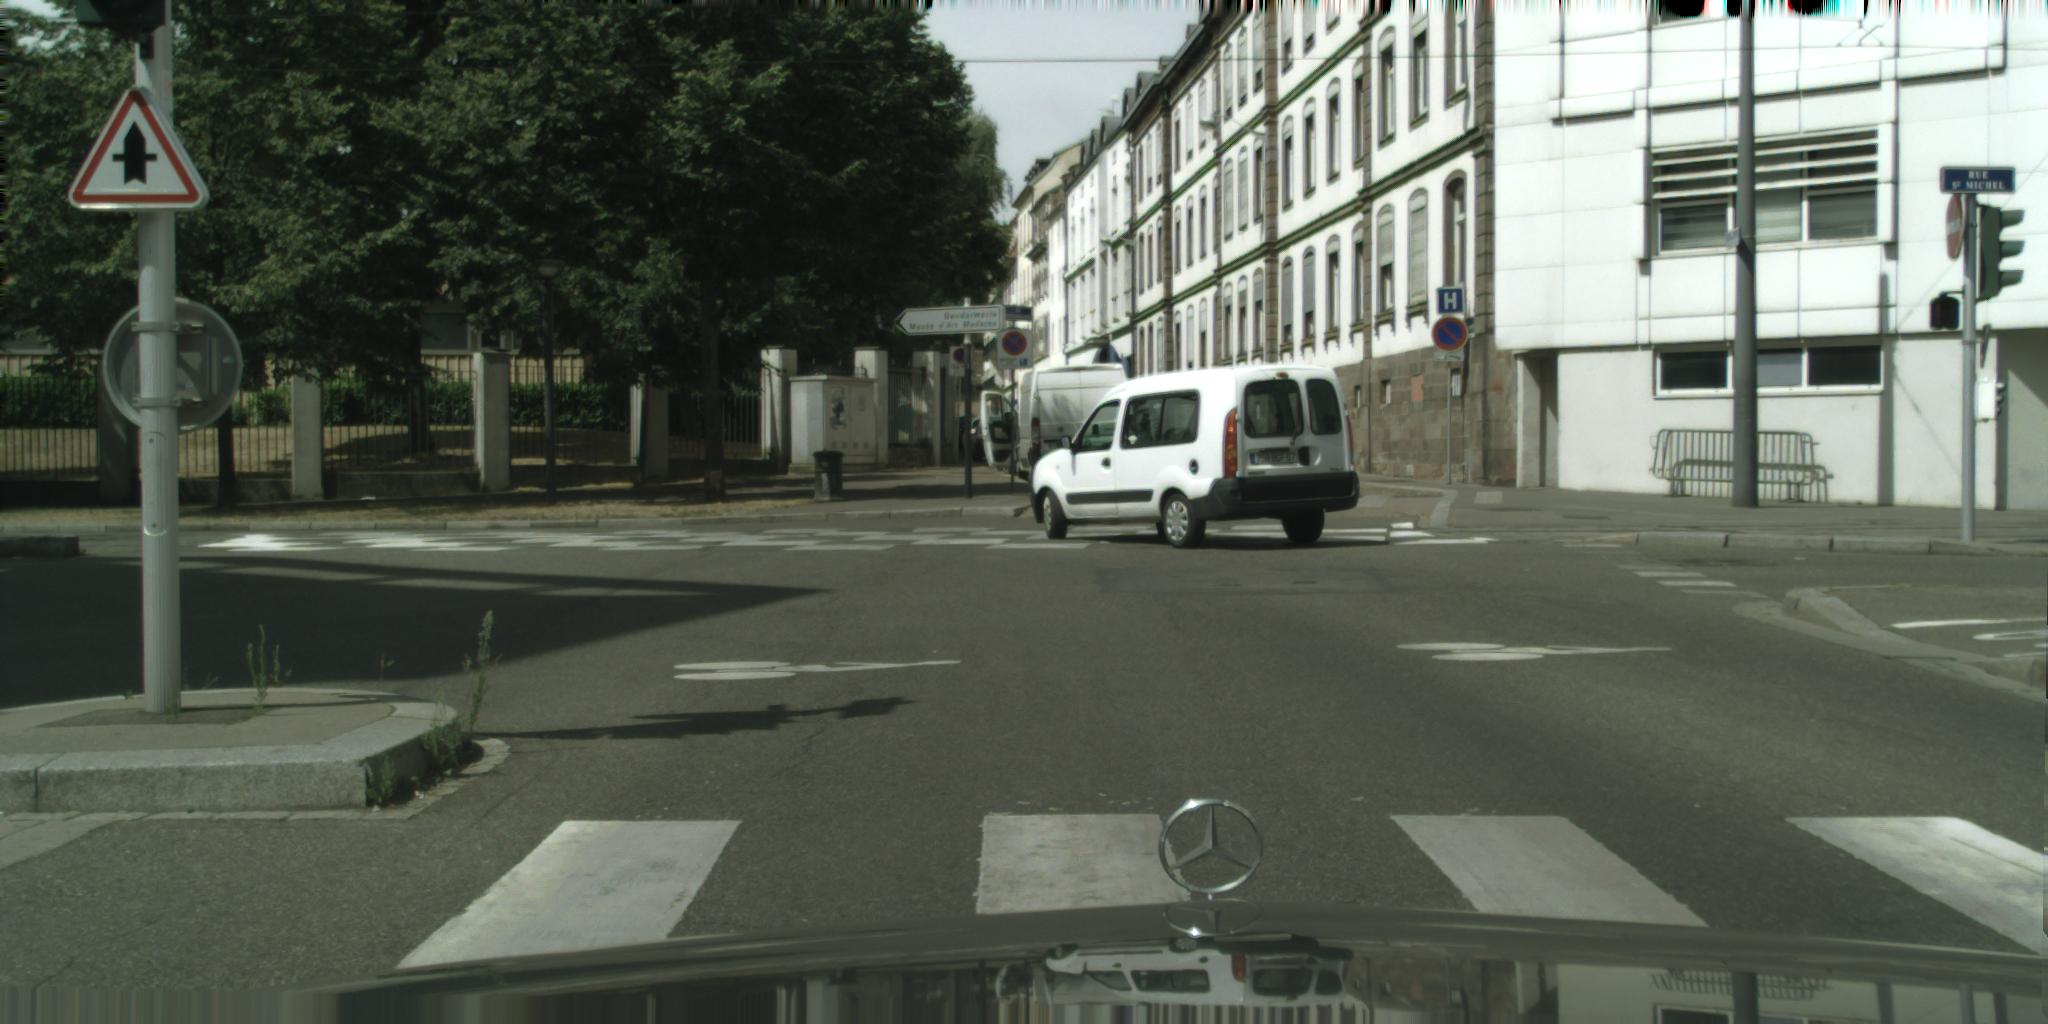car: (1031, 362, 1362, 550), (980, 364, 1149, 481), (963, 419, 997, 462), (955, 415, 980, 456)
